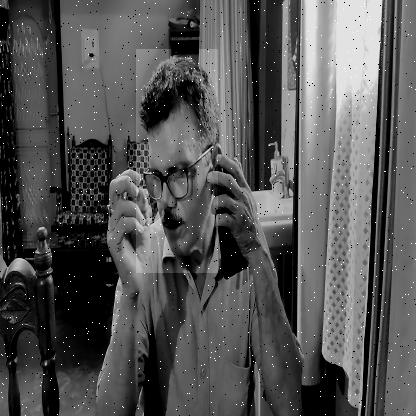Distracted: (136, 49, 218, 273)
